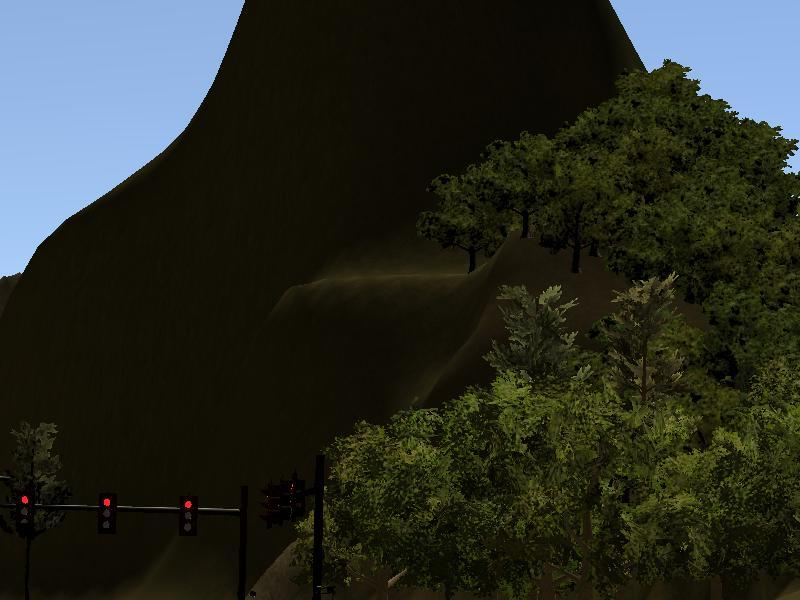Red: (180, 497, 195, 538), (16, 493, 32, 531), (100, 492, 115, 531)
